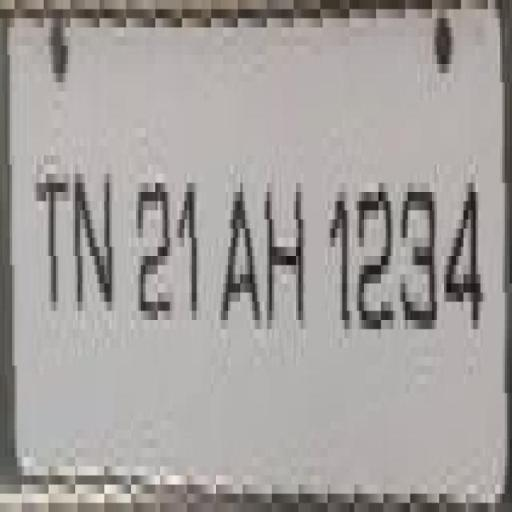number plate: (29, 9, 505, 457)
